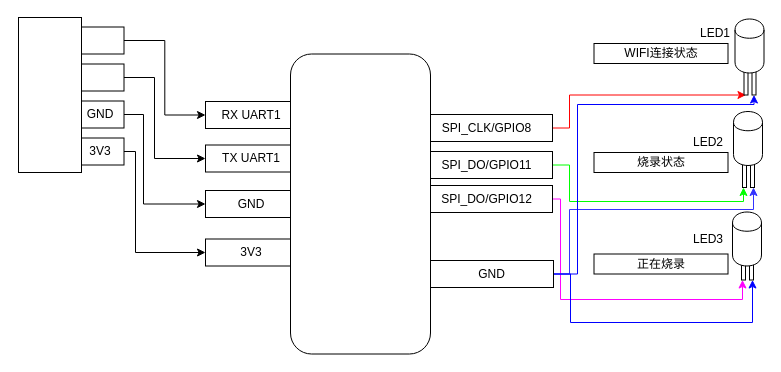
The diagram is 781 pixels wide and 372 high, and some of its shapes have lost their labels. Here are the shapes that lost their labels. From the top down, the box of each, then its label:
(75, 26, 124, 54): TX
(18, 16, 82, 172): ESP8266
(75, 63, 124, 91): RX
(290, 53, 430, 354): A2020 S6
